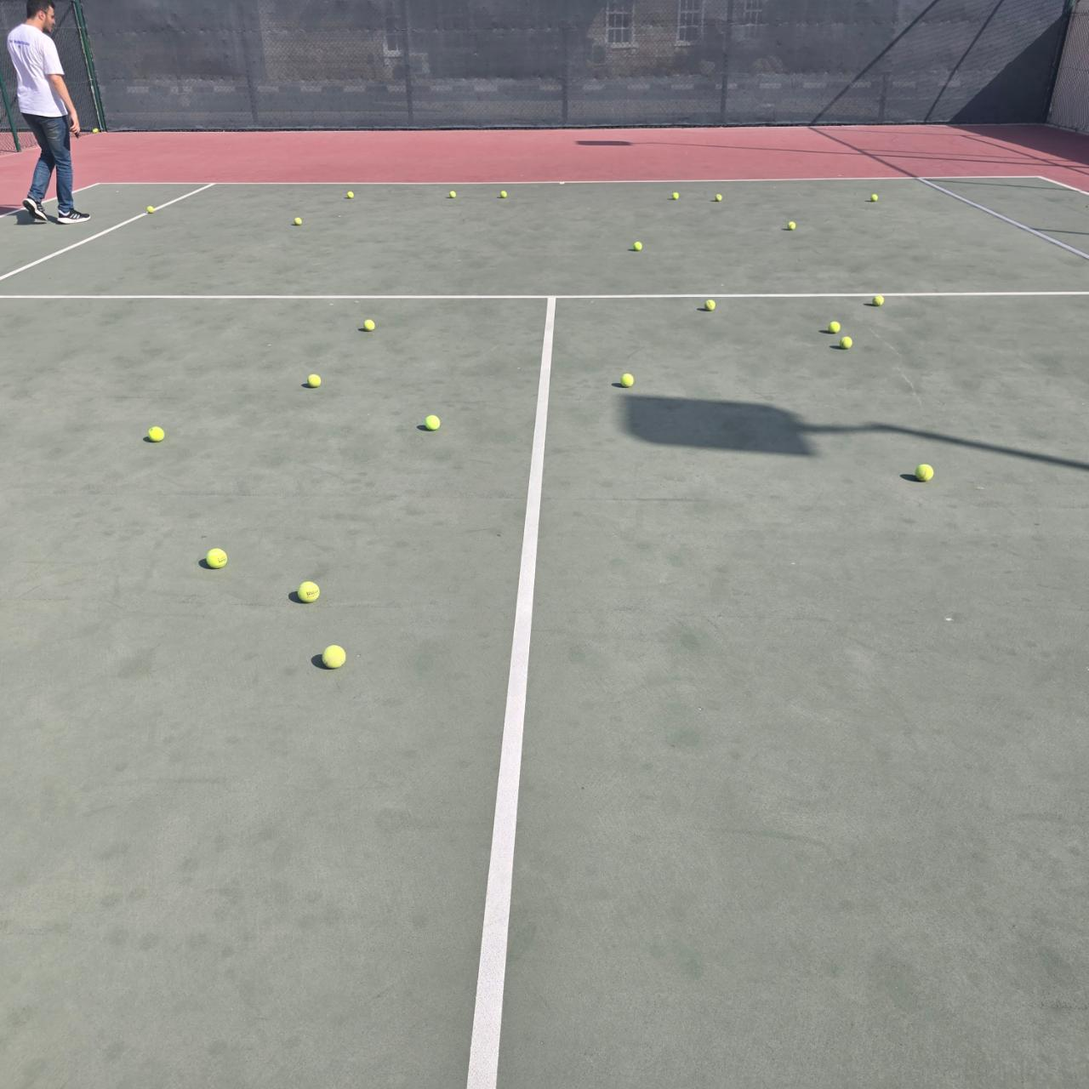tennis-ball: (321, 642, 346, 669), (297, 579, 320, 602), (205, 545, 227, 568), (914, 463, 934, 482), (145, 424, 164, 442), (423, 412, 440, 430), (619, 371, 634, 387), (839, 336, 854, 350), (307, 373, 321, 387), (362, 319, 376, 332), (871, 294, 885, 307), (828, 321, 841, 334), (704, 299, 716, 311), (633, 241, 643, 251), (787, 221, 796, 230), (294, 217, 302, 225), (870, 193, 878, 201), (672, 191, 679, 200), (147, 206, 154, 214), (347, 191, 354, 199), (449, 190, 456, 198), (500, 190, 507, 198), (714, 194, 722, 201), (93, 128, 99, 133)
